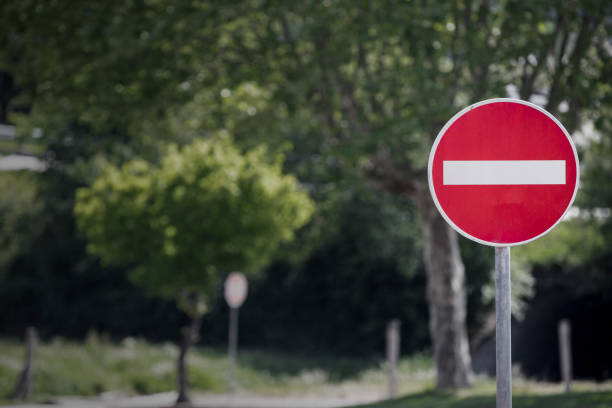Girilmez: (428, 97, 580, 248)
